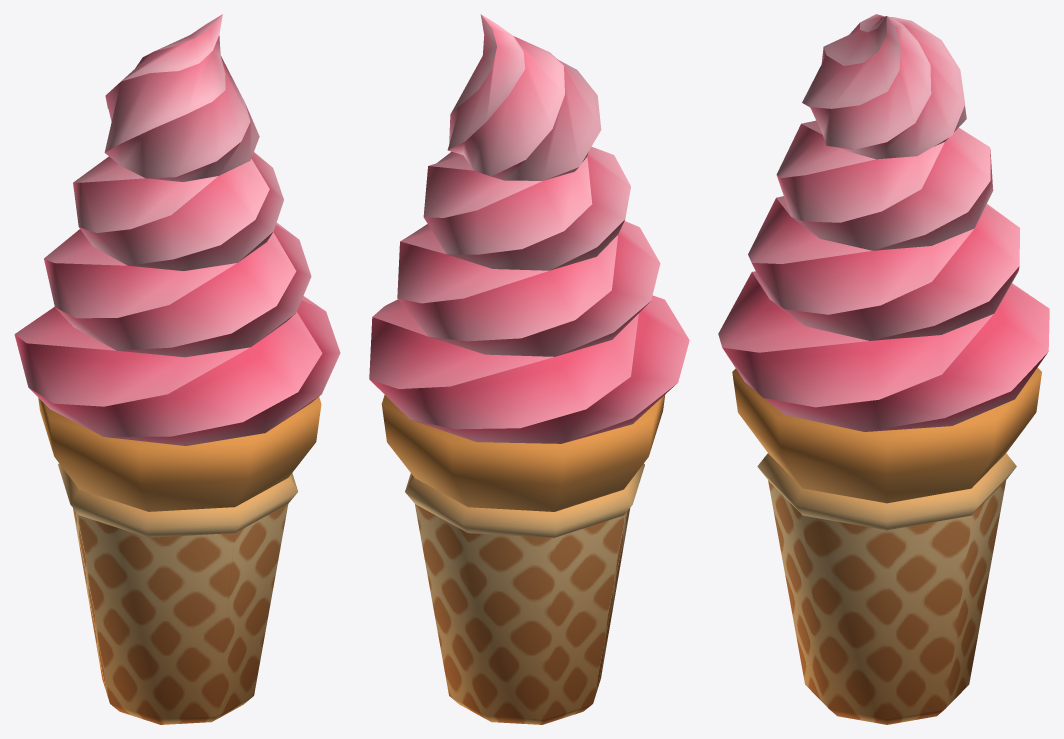
Rendered from m_Softserve03.fbx.
3 views of the same model, side by side, from view 1: azimuth 30°, elevation 25°; view 2: azimuth 150°, elevation 25°; view 3: azimuth 270°, elevation 25° (orthographic). The views are drawn at different scales.
Visible parts, largest first — view 1: m_Softserve03; view 2: m_Softserve03; view 3: m_Softserve03.
Boxes of the visible parts, x1,y1,x2,y2 form: m_Softserve03: (14, 14, 340, 724); m_Softserve03: (369, 14, 689, 724); m_Softserve03: (718, 14, 1049, 724).
Size of the model in its own units: 11.45 by 26 by 11.13.
